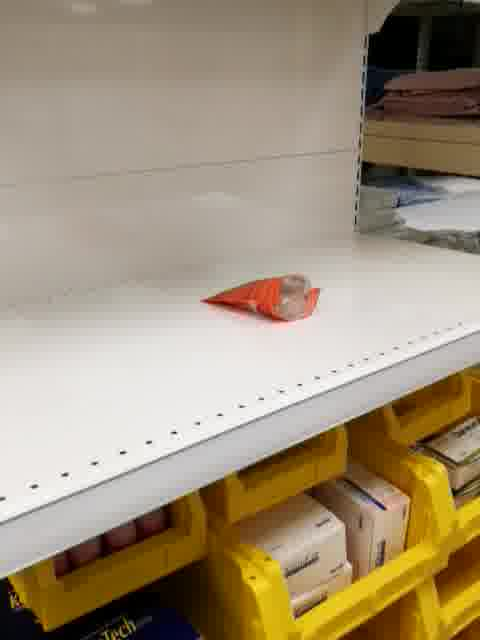whitechia: (198, 273, 325, 325)
